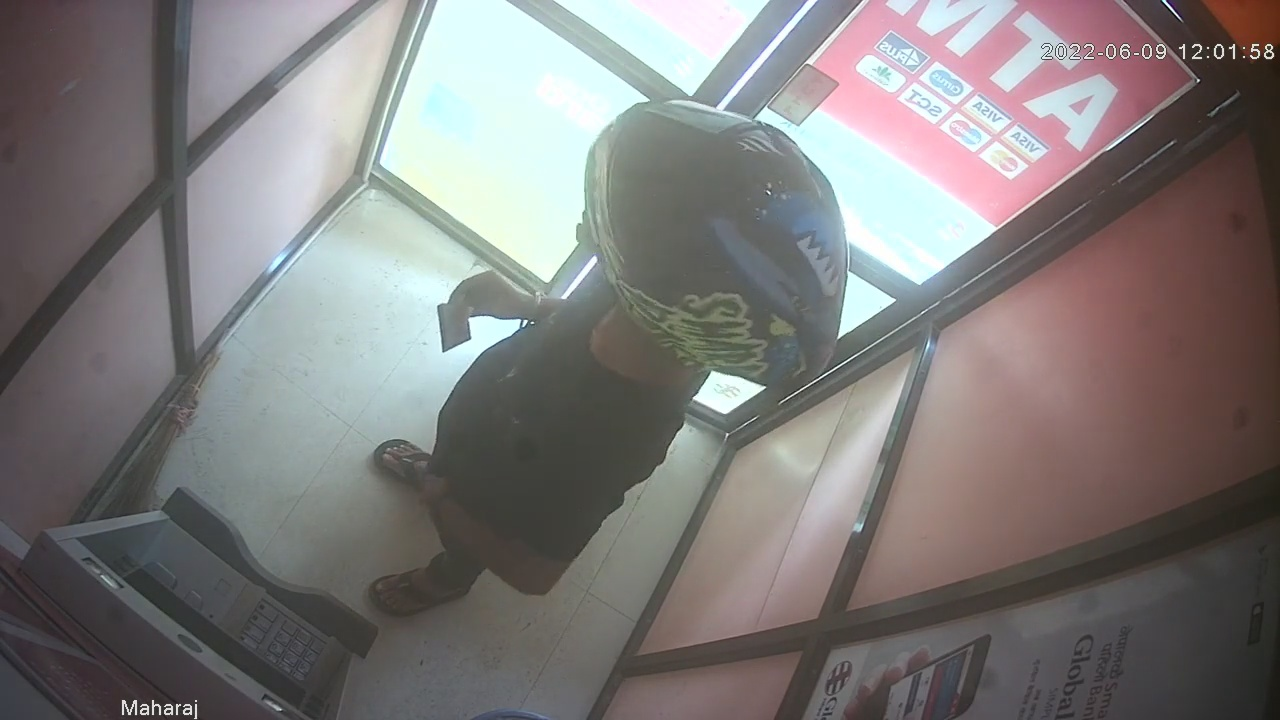helmet: (581, 95, 849, 388)
person: (366, 92, 848, 622)
